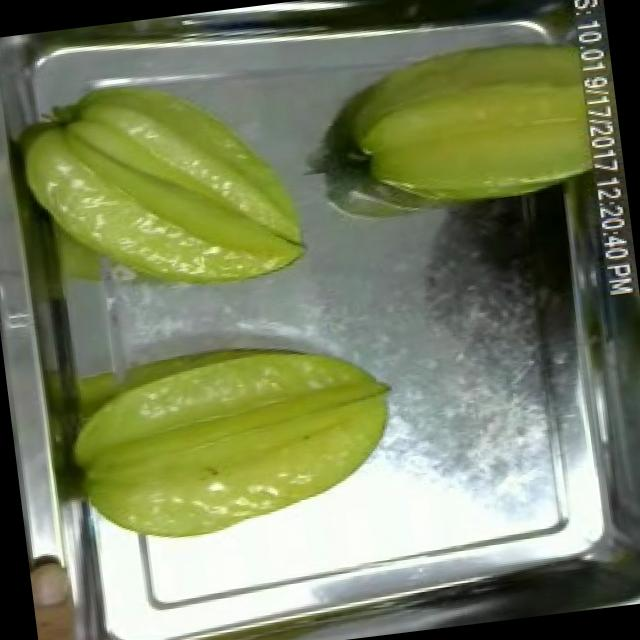fruit: (45, 316, 412, 566), (4, 52, 330, 317), (326, 13, 595, 232)
